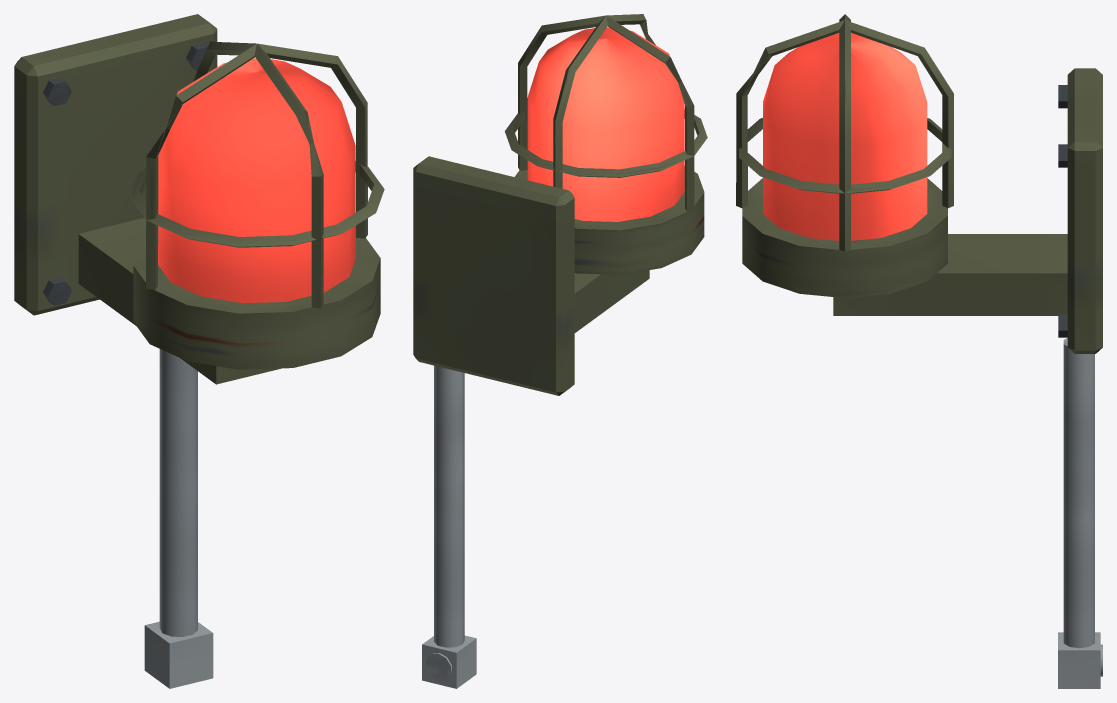
The model's file is alarm_beacon.fbx.
3 renders of one model, left to right at view 1: azimuth 30°, elevation 25°; view 2: azimuth 150°, elevation 25°; view 3: azimuth 270°, elevation 25°, orthographic. The views are drawn at different scales.
Visible parts, largest first — view 1: alarm_beacon, alarm_beacon_lamp; view 2: alarm_beacon, alarm_beacon_lamp; view 3: alarm_beacon, alarm_beacon_lamp.
Part boxes in pixels (x1,y1,x2,y2): alarm_beacon: [14, 14, 384, 688]; alarm_beacon_lamp: [158, 58, 355, 303]; alarm_beacon: [413, 14, 707, 688]; alarm_beacon_lamp: [527, 27, 684, 221]; alarm_beacon: [736, 14, 1102, 688]; alarm_beacon_lamp: [763, 33, 927, 240].
Size of the model in its own units: 0.186 by 0.5982 by 0.313.
Materials: 1 (1 with a texture image).
